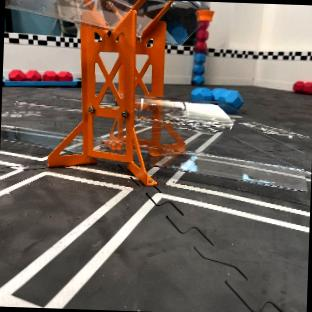V5_BLUE: (191, 87, 242, 111)
